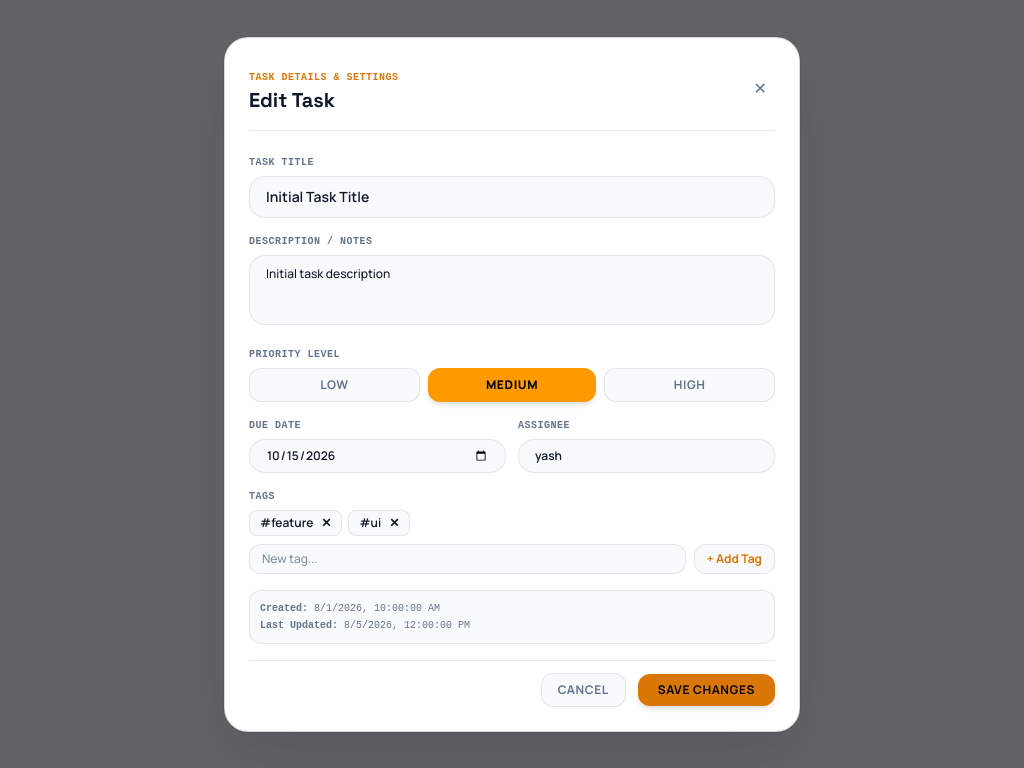
Scenario: EditCardModal Component › adds and removes tags
Type "urgent" into the field with placeholder "New tag...".
click(467, 558); type("urgent")  # box [249, 544, 686, 574]
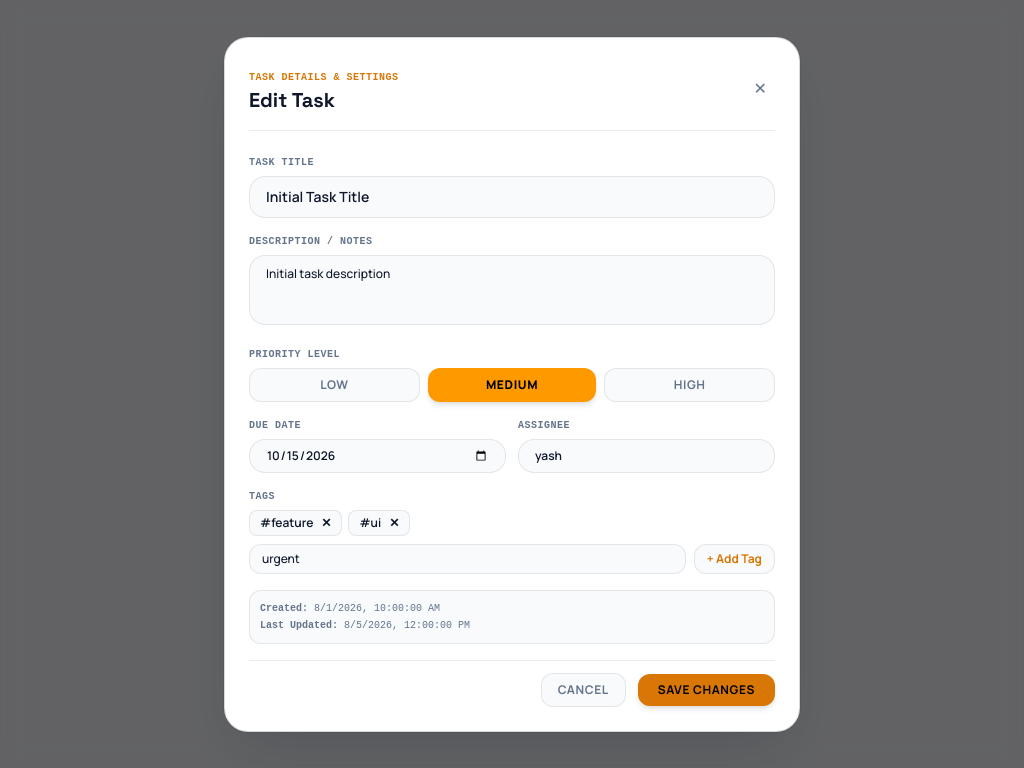
Click the button "+ Add Tag".
click(734, 558)  # box [694, 544, 775, 574]
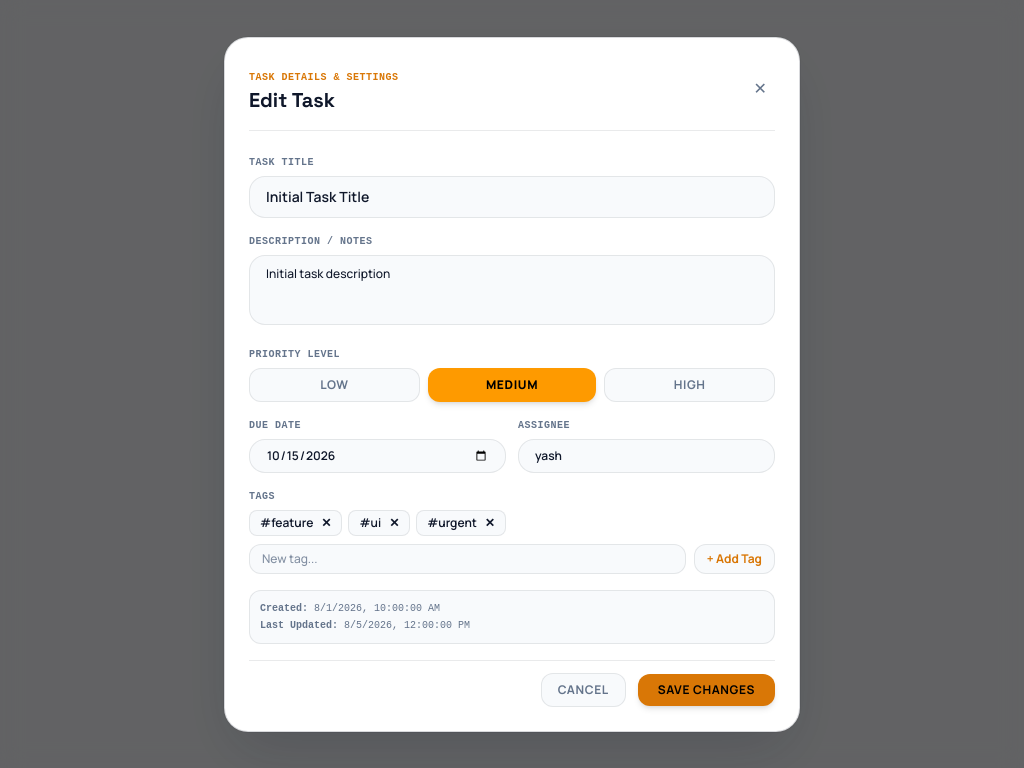
Expected: the text "#urgent" is shown, [416, 510, 506, 536]
